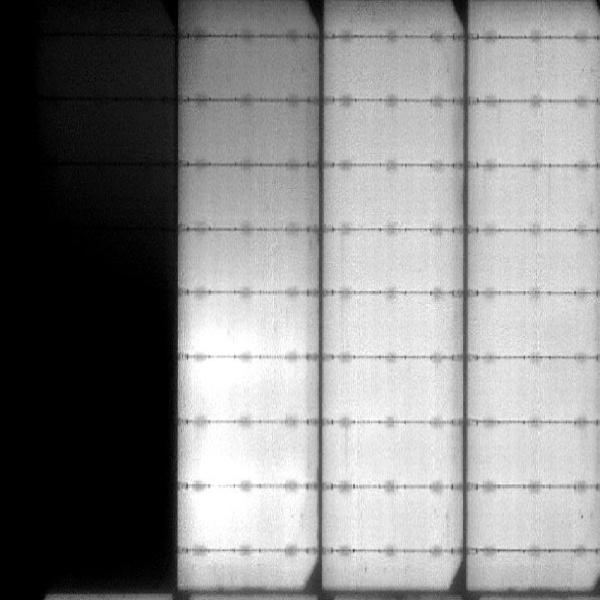hot_spot: (197, 491, 244, 542), (193, 363, 251, 389), (198, 325, 246, 354), (199, 453, 246, 481)
no_electricity: (3, 7, 178, 594)
